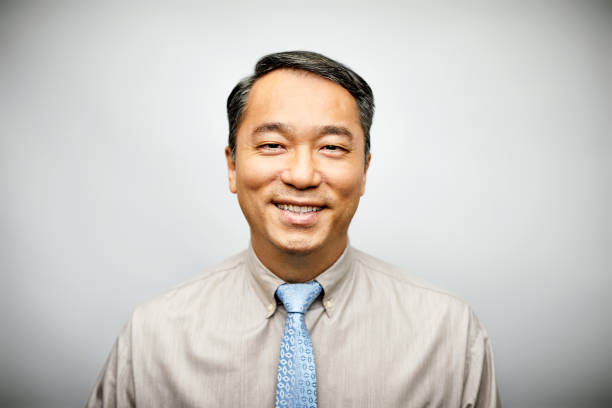person: (221, 48, 376, 264)
